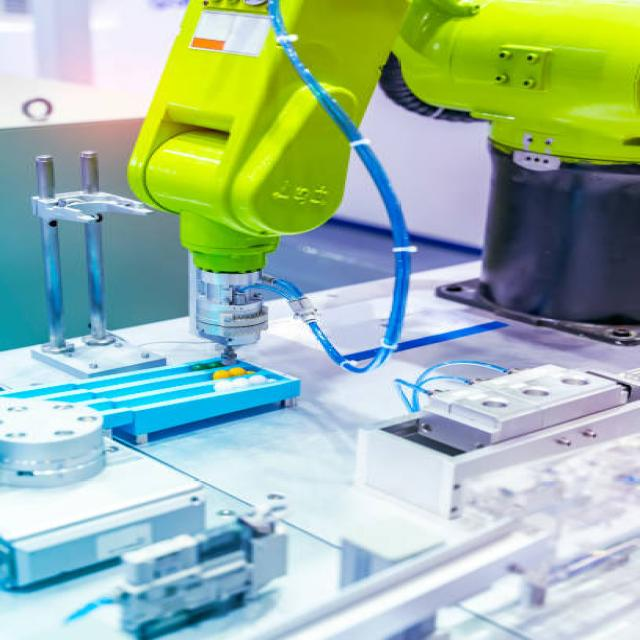Robotic-arm: (123, 0, 640, 382)
